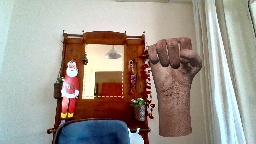Pugno: (144, 35, 204, 90)
